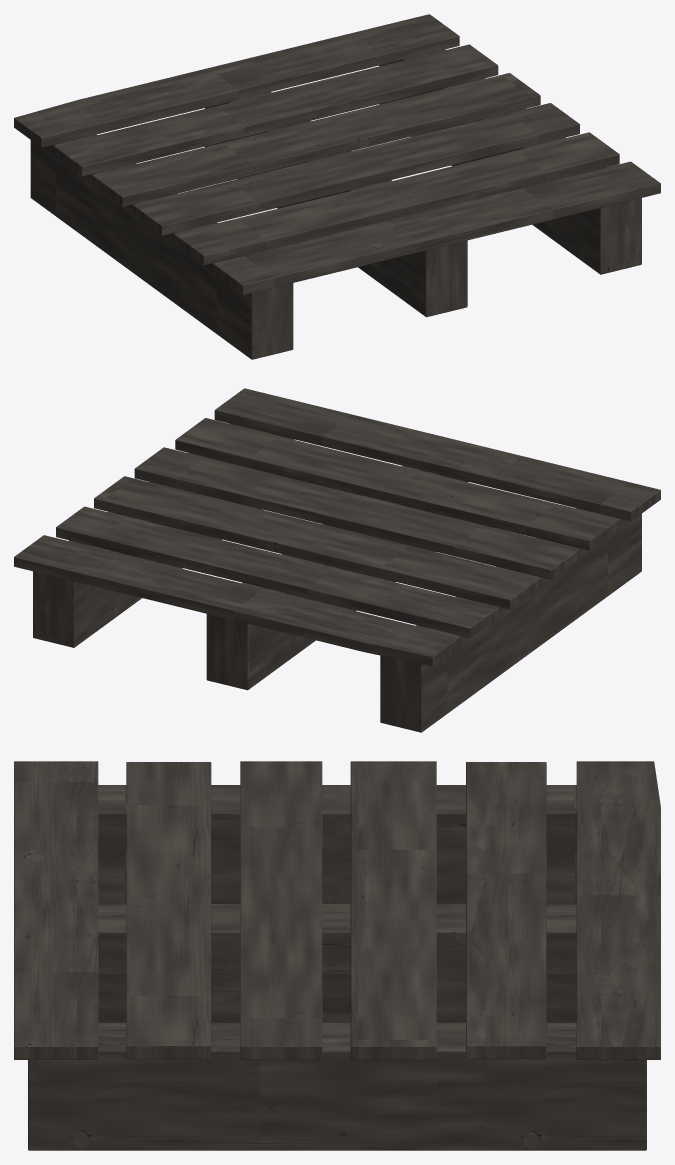
Rendered from SM_wooden_pallet_244700516e.fbx.
The picture shows the model from 3 angles, top to bottom: view 1: azimuth 30°, elevation 25°; view 2: azimuth 150°, elevation 25°; view 3: azimuth 270°, elevation 25°; orthographic projection. The views are drawn at different scales.
Visible parts, largest first — view 1: SM_wooden_pallet_244700516e; view 2: SM_wooden_pallet_244700516e; view 3: SM_wooden_pallet_244700516e.
Part boxes in pixels (box(x1,y1,x2,y2)): SM_wooden_pallet_244700516e: box(14, 14, 660, 359); SM_wooden_pallet_244700516e: box(14, 388, 660, 732); SM_wooden_pallet_244700516e: box(14, 761, 660, 1150).
Size of what is drawn, in the model's own units: 120 by 115 by 22.47.
Materials: 2 (2 with a texture image).
